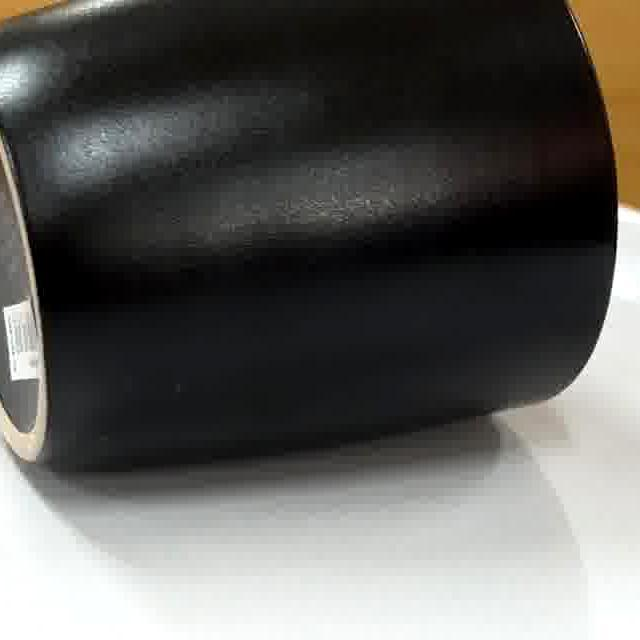cup: (0, 0, 617, 477)
